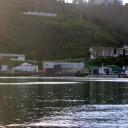submarine: (86, 74, 121, 79)
